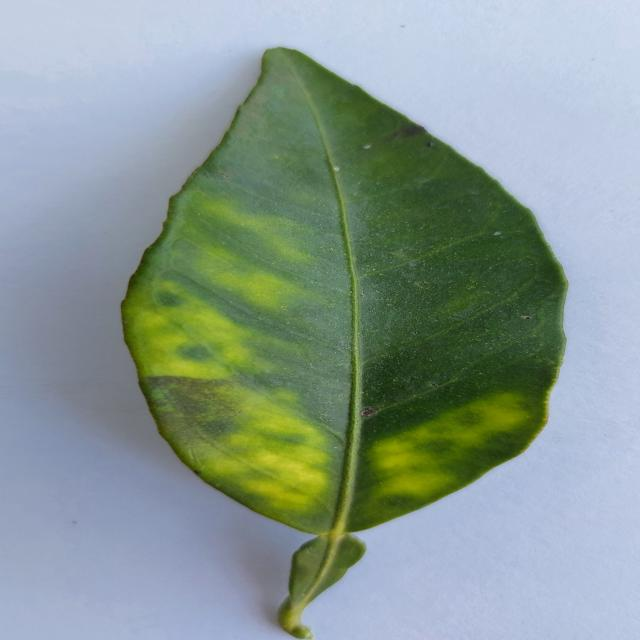greening: (122, 48, 565, 640)
